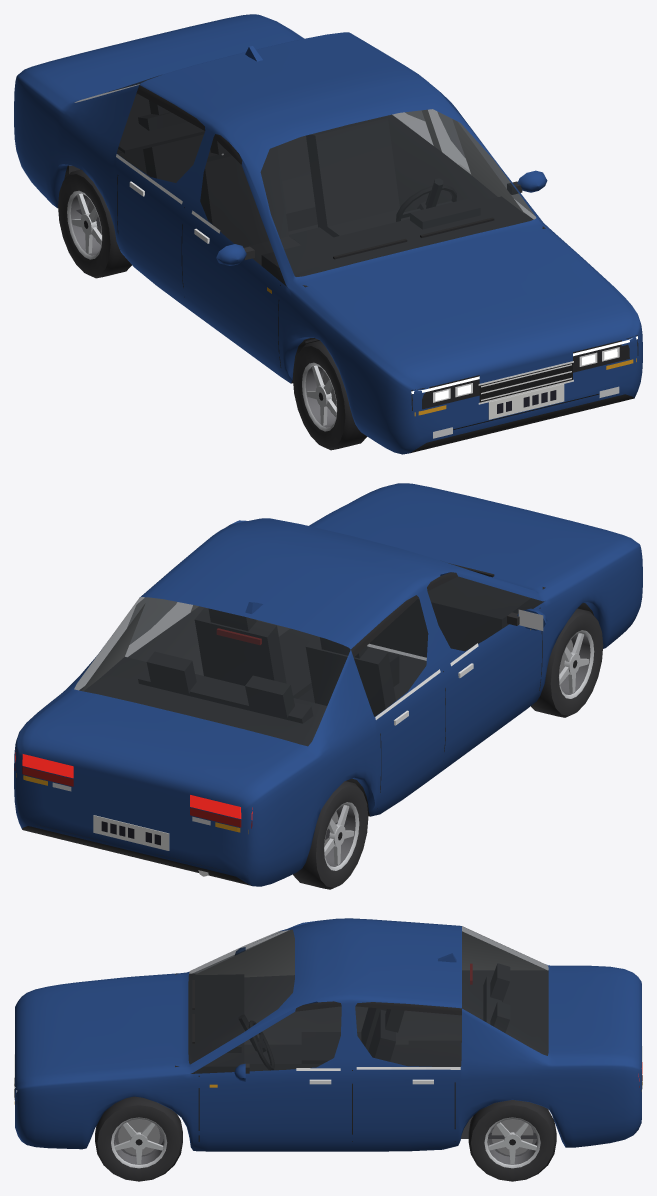
File: sedan_blue.glb
3 views of the same model, one above another, from view 1: azimuth 30°, elevation 25°; view 2: azimuth 150°, elevation 25°; view 3: azimuth 270°, elevation 25° (orthographic). The views are drawn at different scales.
Visible parts, largest first — view 1: sedan_blue_body, Wheel_FR, Wheel_RR; view 2: sedan_blue_body, Wheel_RR, Wheel_FR; view 3: sedan_blue_body, Wheel_FL, Wheel_RL.
Boxes of the visible parts, x1=… form: sedan_blue_body: x1=14, y1=14, x2=642, y2=454; Wheel_FR: x1=293, y1=340, x2=367, y2=450; Wheel_RR: x1=58, y1=169, x2=131, y2=278; sedan_blue_body: x1=14, y1=483, x2=642, y2=886; Wheel_RR: x1=293, y1=781, x2=368, y2=889; Wheel_FR: x1=531, y1=608, x2=603, y2=717; sedan_blue_body: x1=14, y1=918, x2=642, y2=1151; Wheel_FL: x1=95, y1=1096, x2=182, y2=1181; Wheel_RL: x1=468, y1=1100, x2=556, y2=1181.
Size of the model in its own units: 0.1135 by 0.0741 by 0.2358.
Materials: 8 (1 with a texture image).
